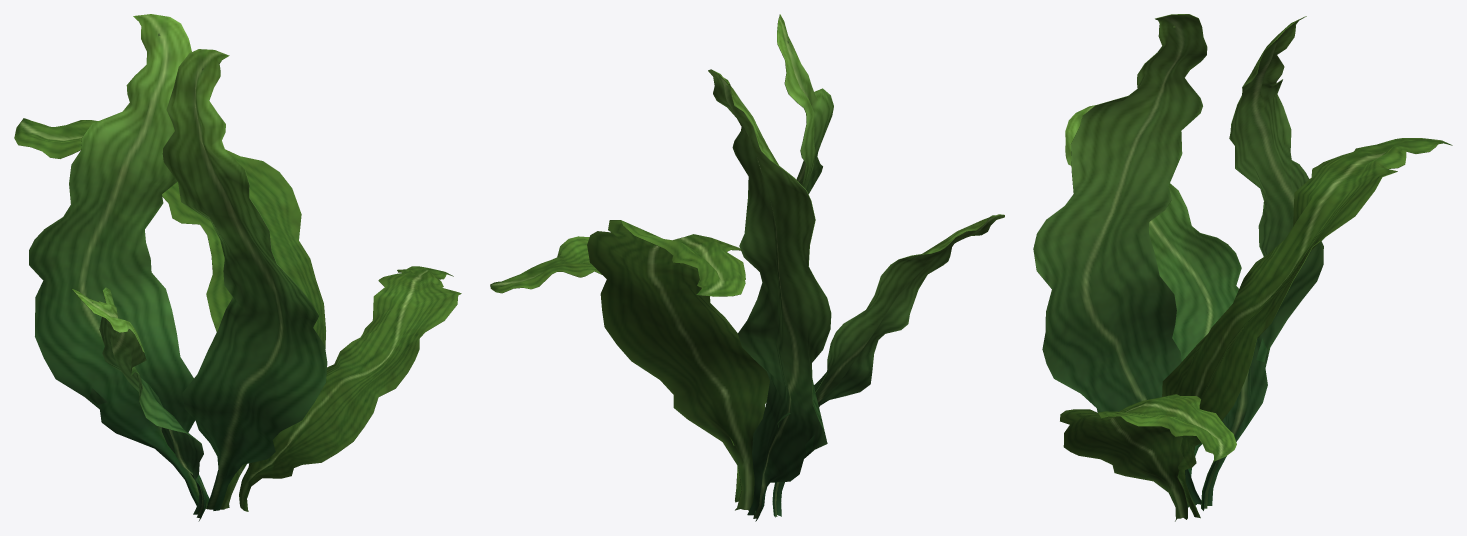
Rendered from SHANH4.fbx.
3 renders of one model, left to right at view 1: azimuth 30°, elevation 25°; view 2: azimuth 150°, elevation 25°; view 3: azimuth 270°, elevation 25°, orthographic. The views are drawn at different scales.
Parts seen in each view (by area): view 1: Cartoon_Seaweed_10_11_Cartoon_Seaweed_10_0; view 2: Cartoon_Seaweed_10_11_Cartoon_Seaweed_10_0; view 3: Cartoon_Seaweed_10_11_Cartoon_Seaweed_10_0.
Boxes of the visible parts, bbox=[...] form: Cartoon_Seaweed_10_11_Cartoon_Seaweed_10_0: bbox=[14, 14, 461, 521]; Cartoon_Seaweed_10_11_Cartoon_Seaweed_10_0: bbox=[490, 14, 1004, 521]; Cartoon_Seaweed_10_11_Cartoon_Seaweed_10_0: bbox=[1033, 14, 1452, 521].
Bounding box in the file's own units: 91.1 × 94.81 × 73.2.
